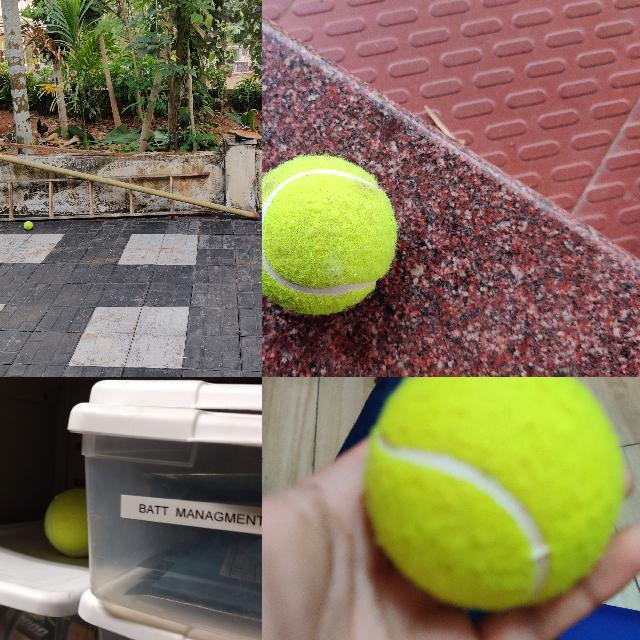tennis-ball: (367, 377, 622, 609), (262, 155, 397, 315), (43, 487, 86, 558), (24, 221, 33, 230)
